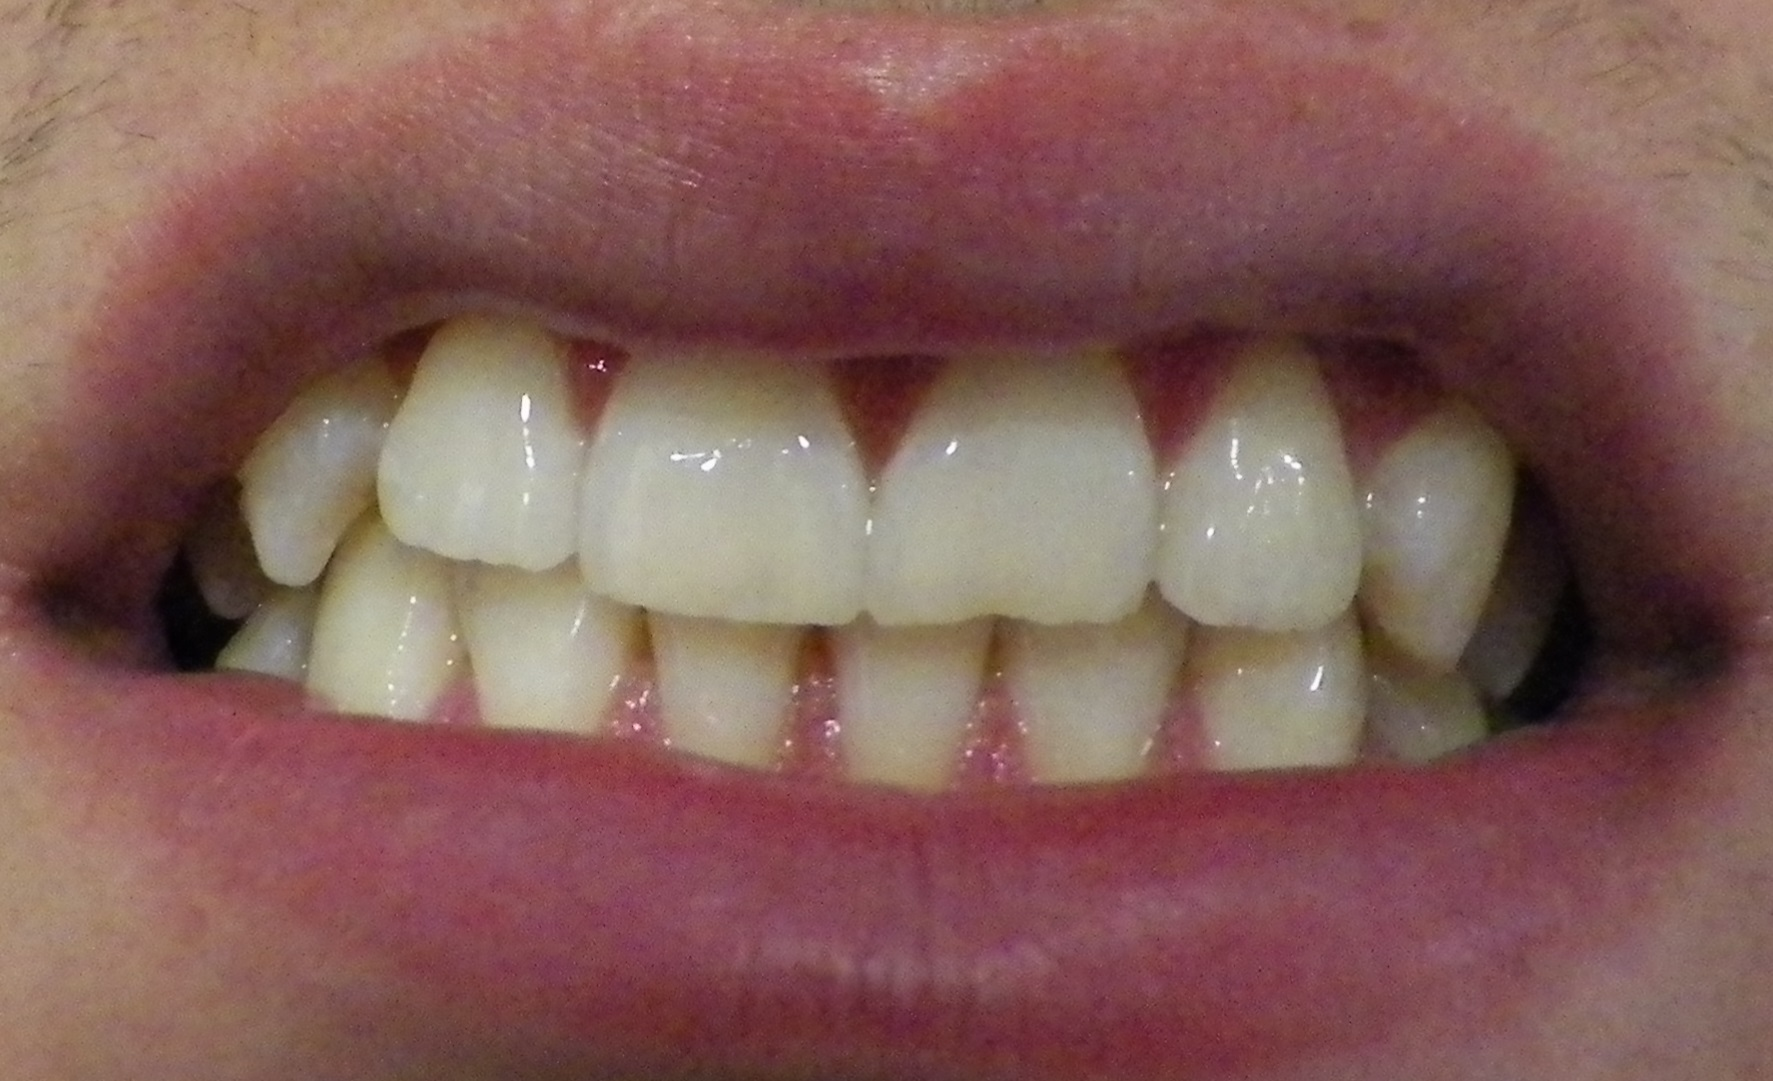boca: (177, 384, 1513, 711)
